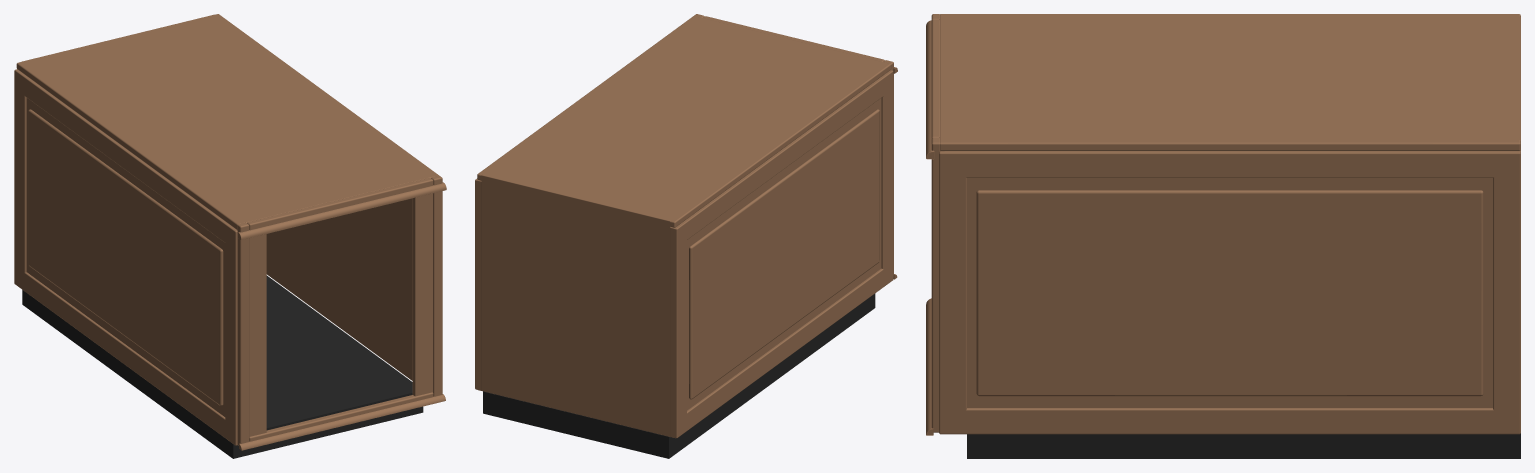
The model's file is cab_66x125.glb.
3 views of the same model, side by side, from view 1: azimuth 30°, elevation 25°; view 2: azimuth 150°, elevation 25°; view 3: azimuth 270°, elevation 25° (orthographic). The views are drawn at different scales.
Parts seen in each view (by area): view 1: Top, SidePanel, Plinth, SideCore.001, SideRail.001, SideCore, SideRail, FaceFill.001, FaceFill, FaceStile, SideStile, SideStile.001 (+5 smaller); view 2: Top, Back, SidePanel, Plinth, SideCore, SideRail.001, SideRail, SideStile.001, SideStile, SideCore.001, SideStile.003, FaceTop; view 3: SidePanel.001, Top, SideCore.001, SideRail.003, SideRail.002, Plinth, SideStile.002, SideStile.003, FaceStile.001, FaceTop, Cornice, BaseMould.
Boxes of the visible parts, x1=… form: Top: x1=16, y1=14, x2=438, y2=229; SidePanel: x1=28, y1=109, x2=223, y2=405; Plinth: x1=22, y1=275, x2=423, y2=458; SideCore.001: x1=266, y1=198, x2=412, y2=380; SideRail.001: x1=20, y1=73, x2=231, y2=245; SideCore: x1=20, y1=71, x2=234, y2=416; SideRail: x1=20, y1=270, x2=229, y2=440; FaceFill.001: x1=412, y1=193, x2=432, y2=396; FaceFill: x1=249, y1=234, x2=266, y2=436; FaceStile: x1=237, y1=222, x2=249, y2=445; SideStile: x1=225, y1=226, x2=237, y2=445; SideStile.001: x1=14, y1=69, x2=26, y2=287; Top: x1=477, y1=16, x2=891, y2=227; Back: x1=481, y1=174, x2=670, y2=436; SidePanel: x1=689, y1=109, x2=879, y2=399; Plinth: x1=483, y1=293, x2=875, y2=458; SideCore: x1=670, y1=73, x2=885, y2=437; SideRail.001: x1=680, y1=74, x2=887, y2=241; SideRail: x1=682, y1=267, x2=887, y2=433; SideStile.001: x1=674, y1=222, x2=686, y2=438; SideStile: x1=881, y1=70, x2=893, y2=285; SideCore.001: x1=477, y1=180, x2=481, y2=390; SideStile.003: x1=475, y1=178, x2=477, y2=389; FaceTop: x1=703, y1=16, x2=884, y2=61; SidePanel.001: x1=976, y1=190, x2=1483, y2=396; Top: x1=939, y1=14, x2=1520, y2=150; SideCore.001: x1=944, y1=149, x2=1520, y2=407; SideRail.003: x1=954, y1=151, x2=1505, y2=177; SideRail.002: x1=954, y1=408, x2=1505, y2=434; Plinth: x1=967, y1=433, x2=1520, y2=458; SideStile.002: x1=939, y1=151, x2=966, y2=434; SideStile.003: x1=1493, y1=151, x2=1520, y2=434; FaceStile.001: x1=931, y1=138, x2=940, y2=432; FaceTop: x1=931, y1=20, x2=939, y2=138; Cornice: x1=926, y1=20, x2=934, y2=159; BaseMould: x1=926, y1=298, x2=933, y2=435.
Bounding box in the file's own units: 0.679 × 0.758 × 1.28.
